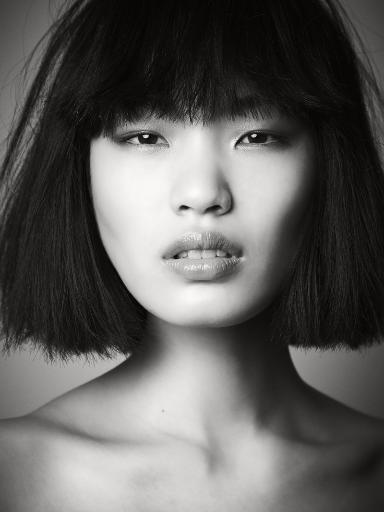left_eye: (232, 125, 291, 157)
left_lip_corner: (236, 243, 252, 267)
right_eye: (116, 129, 171, 157)
right_lip_corner: (160, 249, 177, 272)
